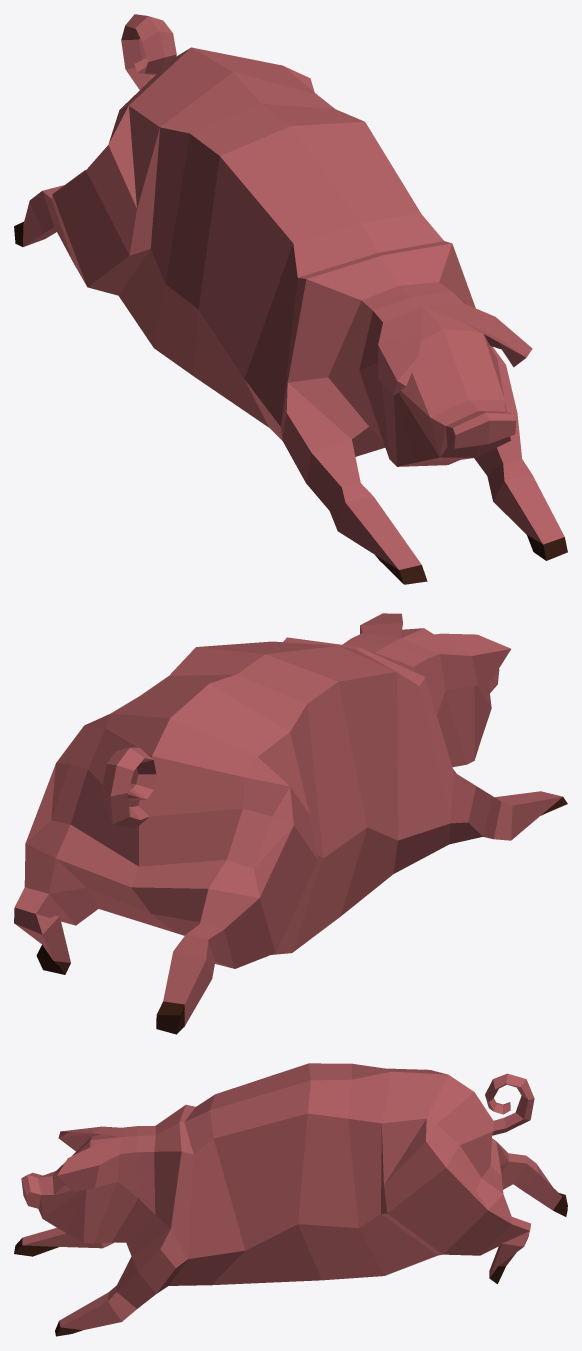
Rendered from Pig_000020.obj.
The picture shows the model from 3 angles, top to bottom: view 1: azimuth 30°, elevation 25°; view 2: azimuth 150°, elevation 25°; view 3: azimuth 270°, elevation 25°; orthographic projection. The views are drawn at different scales.
Parts seen in each view (by area): view 1: Pig_Cylinder; view 2: Pig_Cylinder; view 3: Pig_Cylinder.
Part boxes in pixels (x1,y1,x2,y2): Pig_Cylinder: (14,14,567,584); Pig_Cylinder: (14,613,567,1034); Pig_Cylinder: (14,1063,567,1336).
Bounding box in the file's own units: 3.31 × 4.49 × 9.65.
